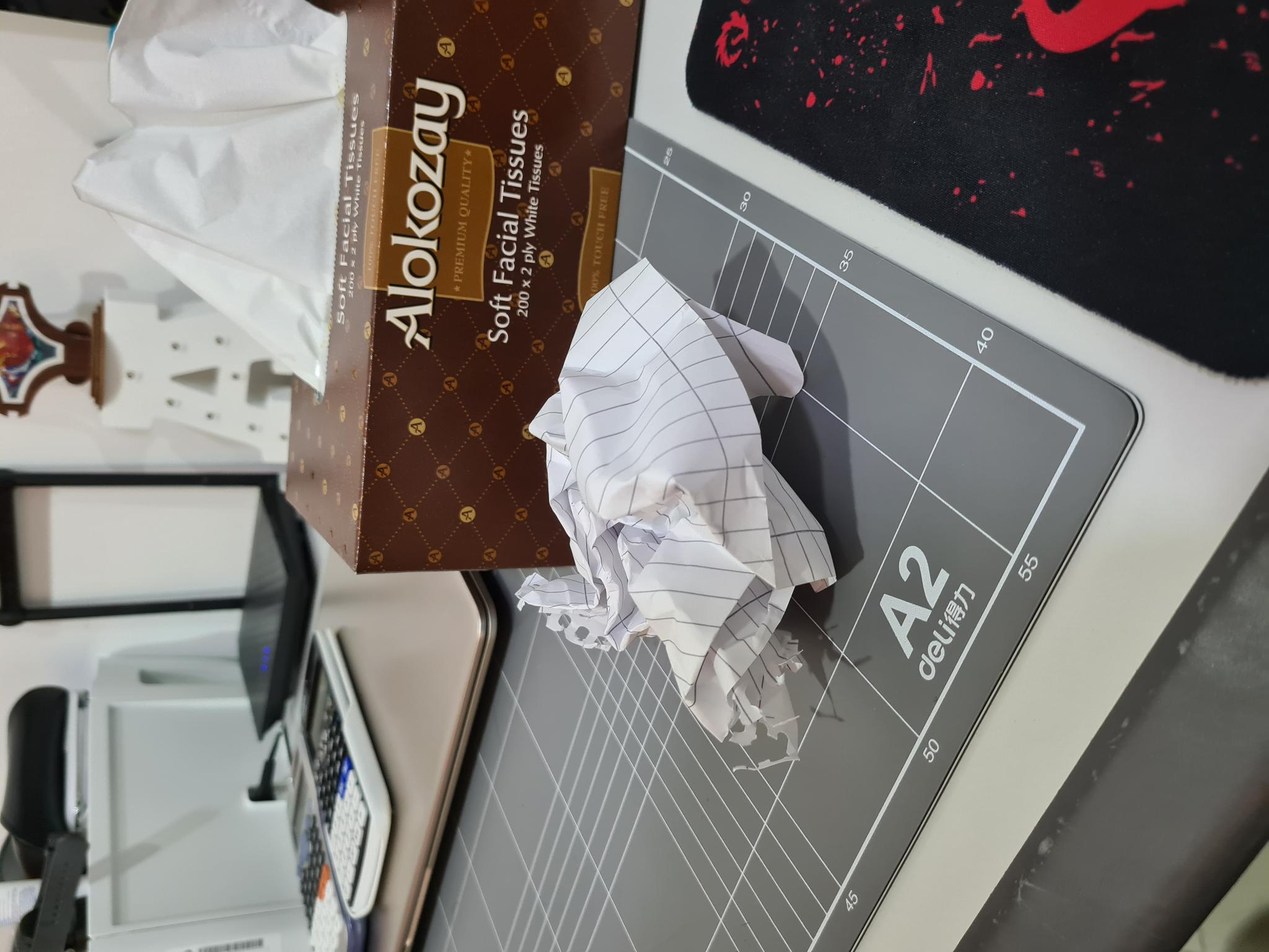Kertas: (312, 543, 622, 804)
